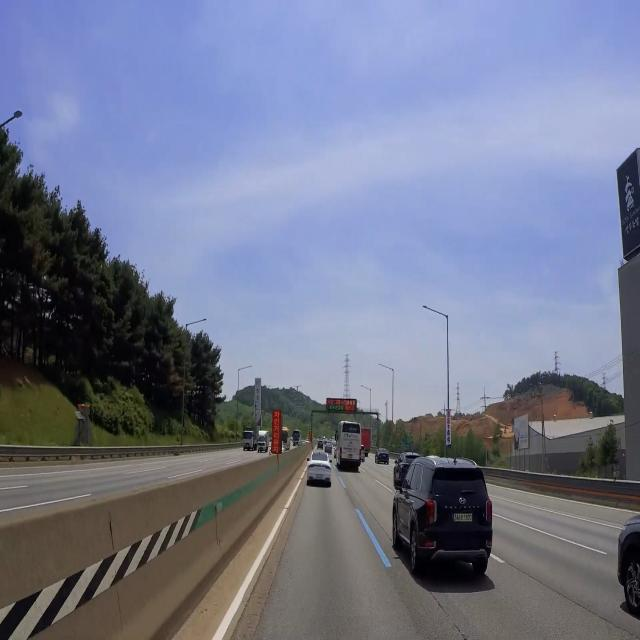car: (451, 505, 474, 529), (312, 471, 327, 485), (344, 451, 359, 461)
